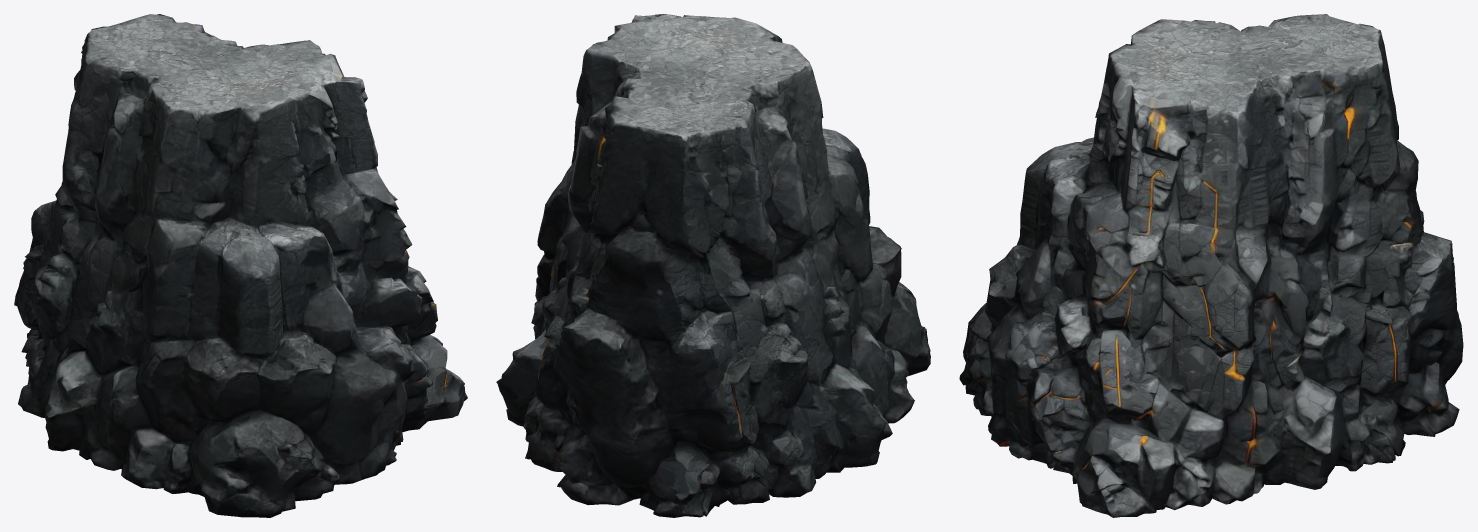
File: rock_wall.glb
3 views of the same model, side by side, from view 1: azimuth 30°, elevation 25°; view 2: azimuth 150°, elevation 25°; view 3: azimuth 270°, elevation 25° (orthographic). The views are drawn at different scales.
Parts seen in each view (by area): view 1: tripo_node_a41adfc6-a8c2-4cbe-a781-3243eb273b65; view 2: tripo_node_a41adfc6-a8c2-4cbe-a781-3243eb273b65; view 3: tripo_node_a41adfc6-a8c2-4cbe-a781-3243eb273b65.
Boxes of the visible parts, left/top/right/bottom form: tripo_node_a41adfc6-a8c2-4cbe-a781-3243eb273b65: left=14, top=14, right=467, bottom=517; tripo_node_a41adfc6-a8c2-4cbe-a781-3243eb273b65: left=496, top=14, right=930, bottom=517; tripo_node_a41adfc6-a8c2-4cbe-a781-3243eb273b65: left=959, top=14, right=1463, bottom=517.
Bounding box in the file's own units: 4.52 × 3.99 × 5.
1 material, 1 textured.
